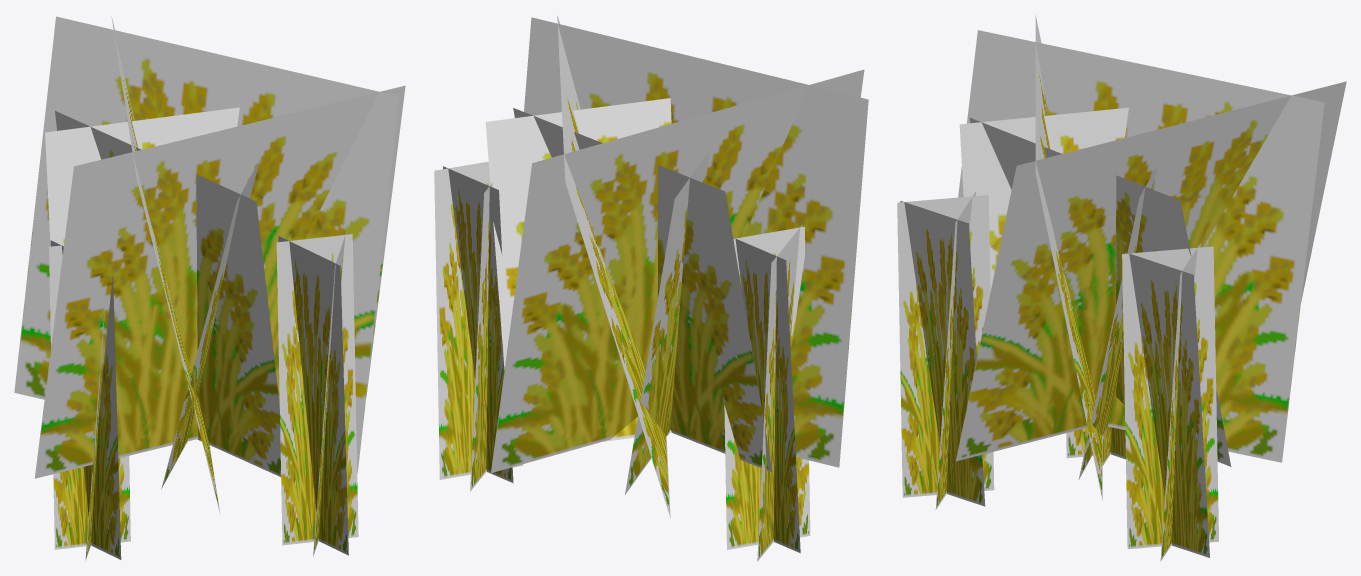
File: grain.obj
3 views of the same model, side by side, from view 1: azimuth 30°, elevation 25°; view 2: azimuth 150°, elevation 25°; view 3: azimuth 270°, elevation 25° (orthographic). The views are drawn at different scales.
Visible parts, largest first — view 1: Box01, Duplicate02, Duplicate05, Duplicate07, Duplicate08, Duplicate01; view 2: Duplicate01, Box01, Duplicate05, Duplicate06, Duplicate08, Duplicate02; view 3: Duplicate02, Duplicate01, Duplicate06, Duplicate07, Duplicate05, Box01, Duplicate08.
Part boxes in pixels (<box>): Box01: <box>34,85,405,478</box>; Duplicate02: <box>14,16,399,472</box>; Duplicate05: <box>45,107,280,489</box>; Duplicate07: <box>276,230,358,556</box>; Duplicate08: <box>49,240,130,561</box>; Duplicate01: <box>111,16,220,513</box>; Duplicate01: <box>491,69,864,472</box>; Box01: <box>524,17,868,467</box>; Duplicate05: <box>485,98,772,494</box>; Duplicate06: <box>434,161,523,491</box>; Duplicate08: <box>724,225,810,561</box>; Duplicate02: <box>557,15,670,518</box>; Duplicate02: <box>956,81,1346,461</box>; Duplicate01: <box>958,30,1324,462</box>; Duplicate06: <box>1122,243,1218,561</box>; Duplicate07: <box>897,191,994,509</box>; Duplicate05: <box>959,107,1231,479</box>; Box01: <box>1035,15,1102,500</box>; Duplicate08: <box>1066,426,1125,465</box>.
Bounding box in the file's own units: 42.69 × 48.75 × 47.98.
